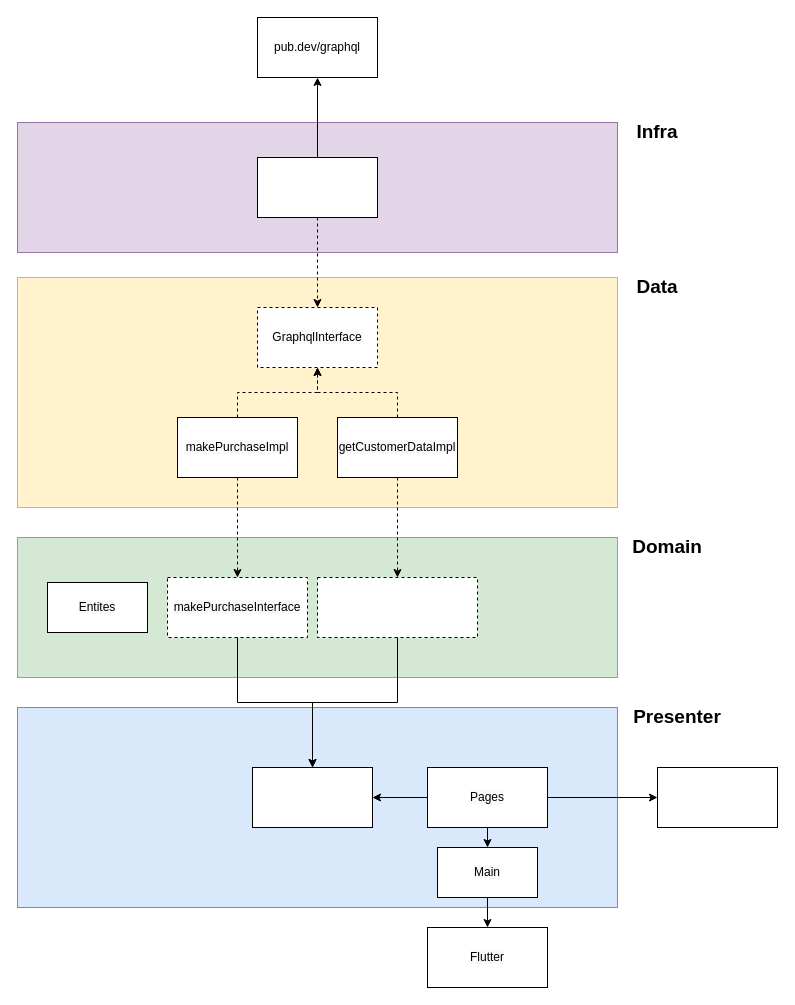
This 795x1005 diagram has some shape labels left out. Here are the shapes that lost their labels. From the top down, the box of each, then its label:
(256, 156, 378, 218): GraphqlImpl
(316, 576, 478, 638): getCustomerDataInterface
(252, 766, 372, 828): Controllers
(656, 766, 778, 828): pub.dev/get
